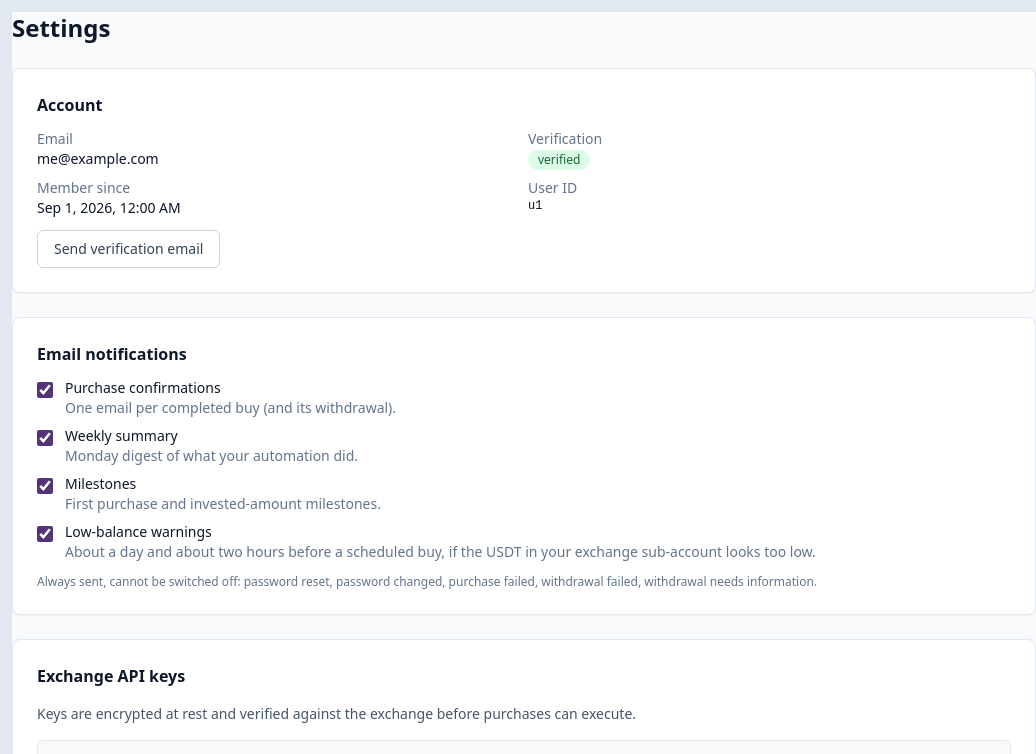
Settings: email notifications › lets the user switch optional emails off and lists the always-on ones
Expected: the text with test id "always-on" shows "password reset, password changed, purchase failed, withdrawal failed", [244,573,814,590]
Click the checkbox labelled "Weekly summary Monday digest of what your automation did.": coordinates (45, 438) [37,430,53,446]
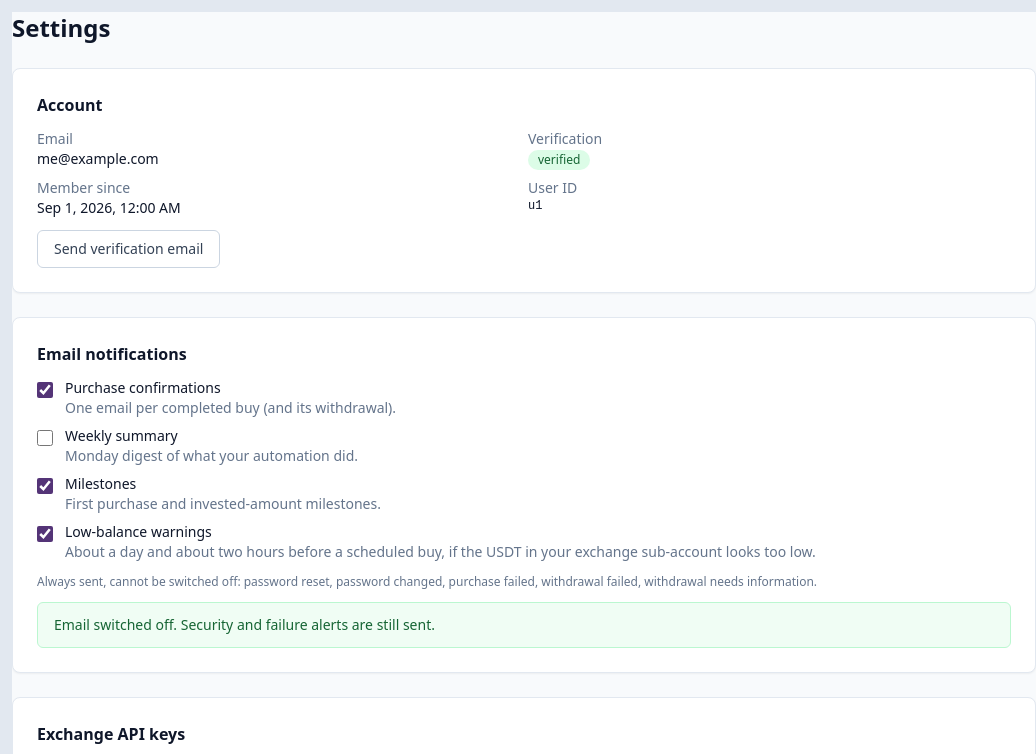
Now the checkbox labelled "Weekly summary Monday digest of what your automation did." is not checked, box [37,430,53,446]
Now the text "Email switched off. Security and failure alerts are still sent." is shown, box [37,602,1011,648]
